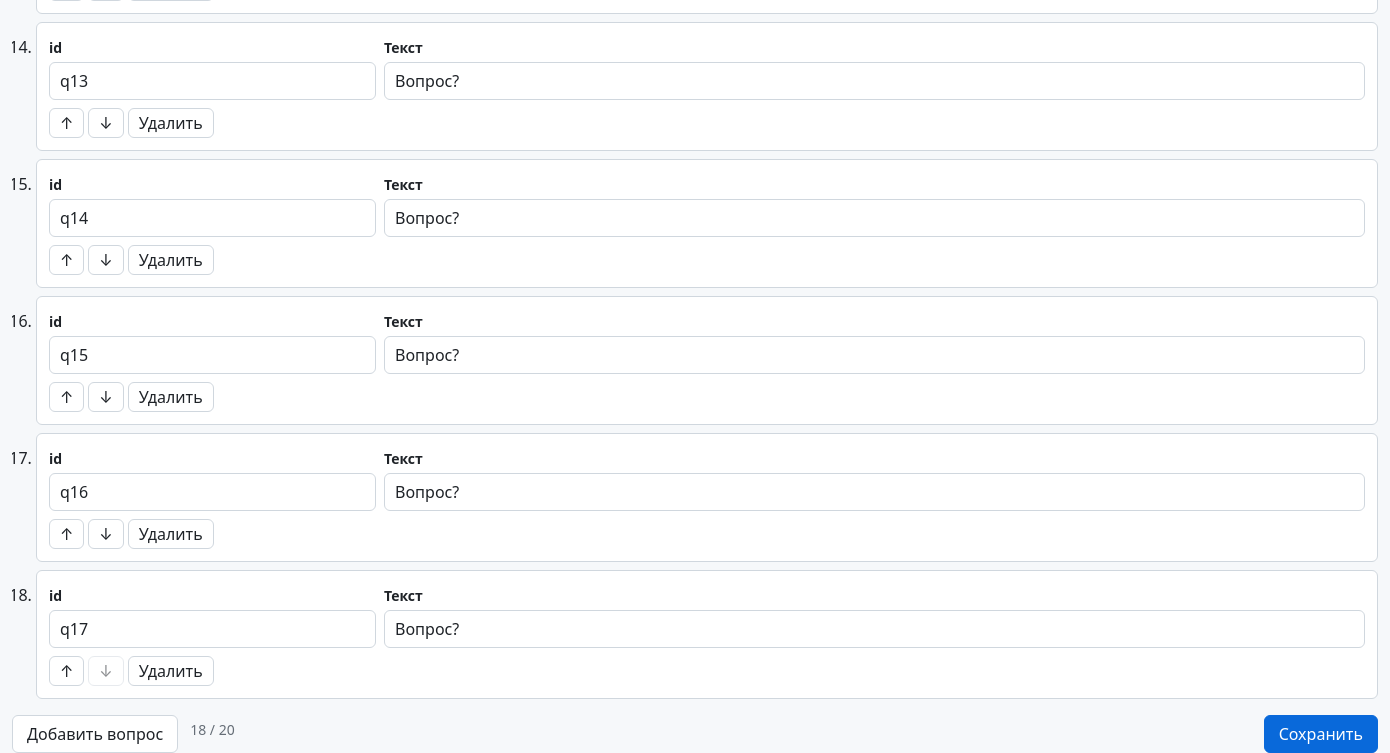
Test: adds a question up to 20
(page scrolled)
Step 1. Click the button "Добавить вопрос" → [95, 734], box top-left (12, 714), bottom-right (178, 752)
(page scrolled)
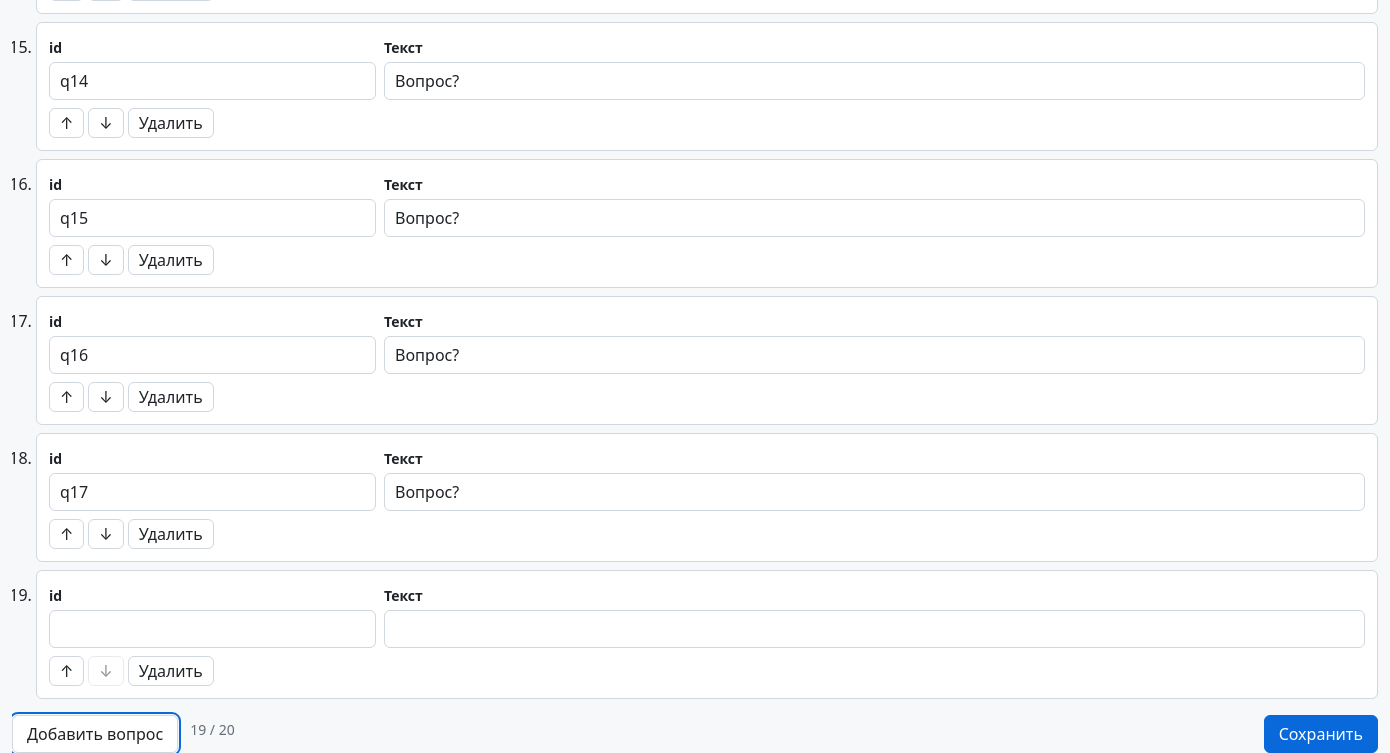
Step 2. Click the button "Добавить вопрос" → [95, 734], box top-left (12, 714), bottom-right (178, 752)
(page scrolled)
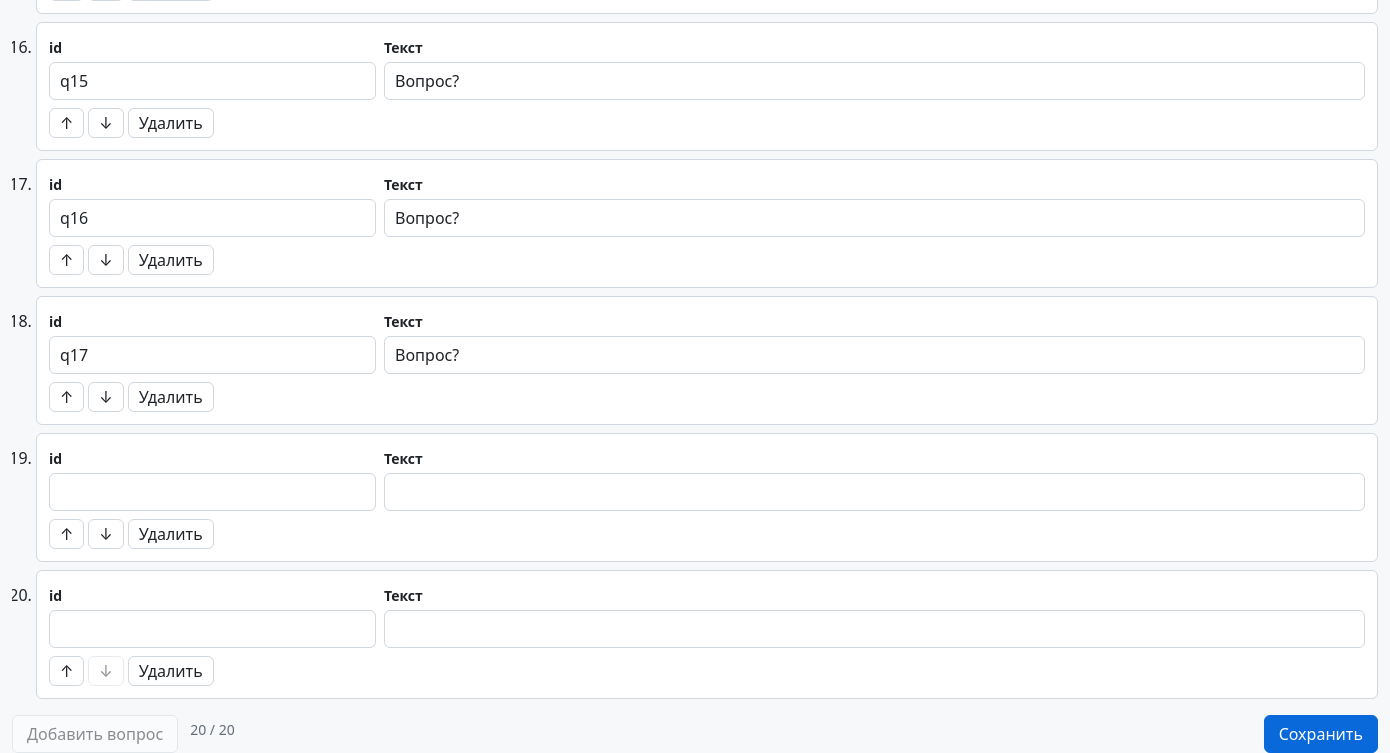
expect the button "Добавить вопрос" is disabled: met, box top-left (12, 714), bottom-right (178, 752)
